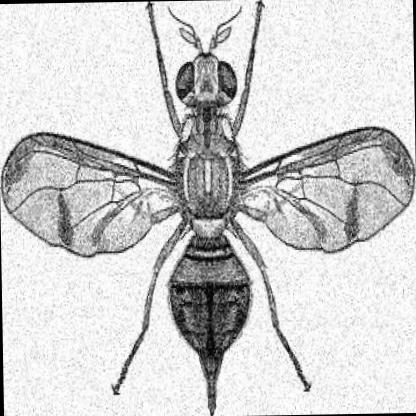fruit fly: (0, 3, 414, 414)
